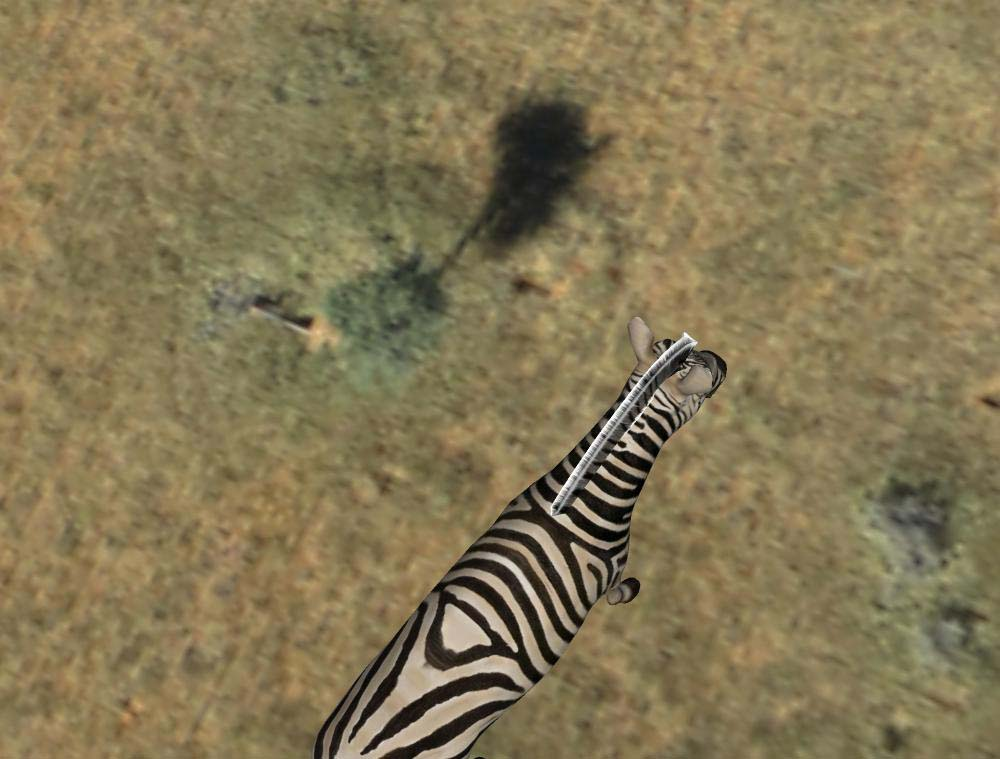zebra: (310, 318, 725, 759)
